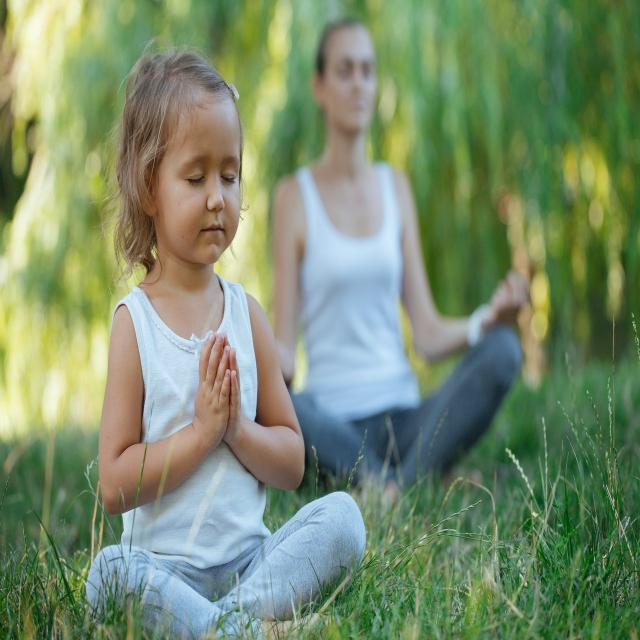adult: (266, 19, 535, 496)
child: (83, 45, 370, 637)
